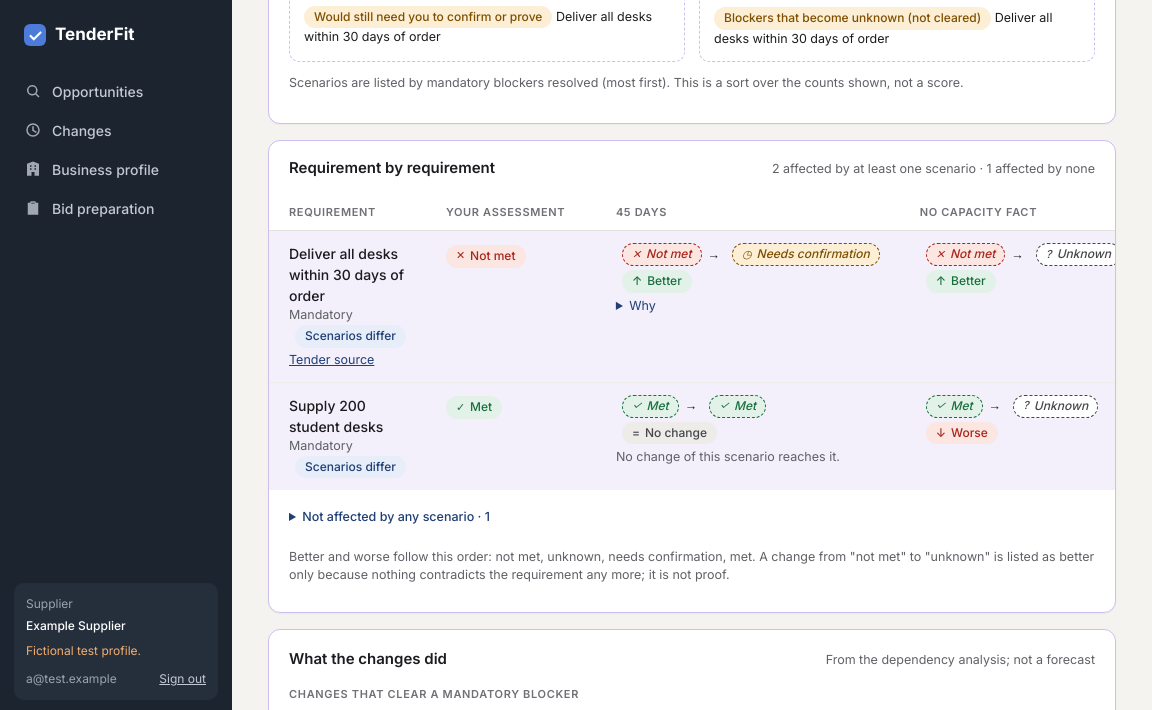
Test case: comparing scenarios › keeps every verdict category distinct, names each transition, and never scores
(page scrolled)
Expected: the text "Blockers that become unknown (not cleared)" is shown, [714,7,991,30]
Expected: the text "Deliver all desks within 30 days of order" is shown, [289,244,406,306]
Step 1. Click the button "Tender source" → (332, 360), box [289,351,374,370]
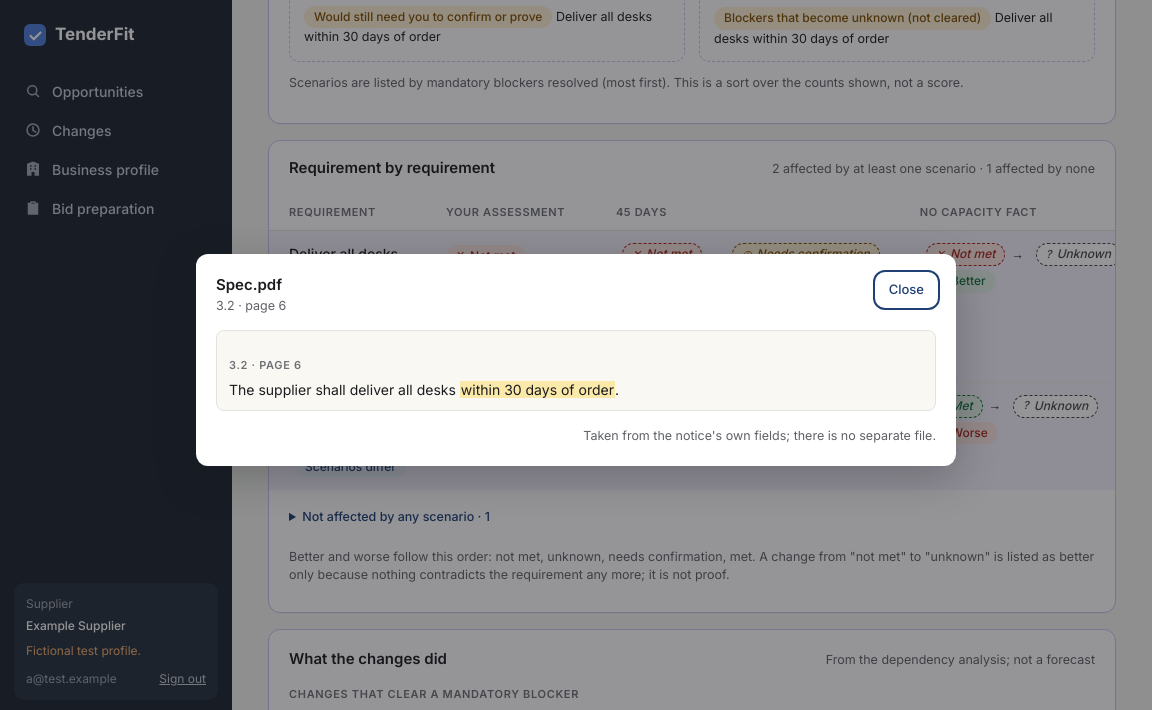
Result: the heading "Spec.pdf" is shown at [216,274,286,297]
